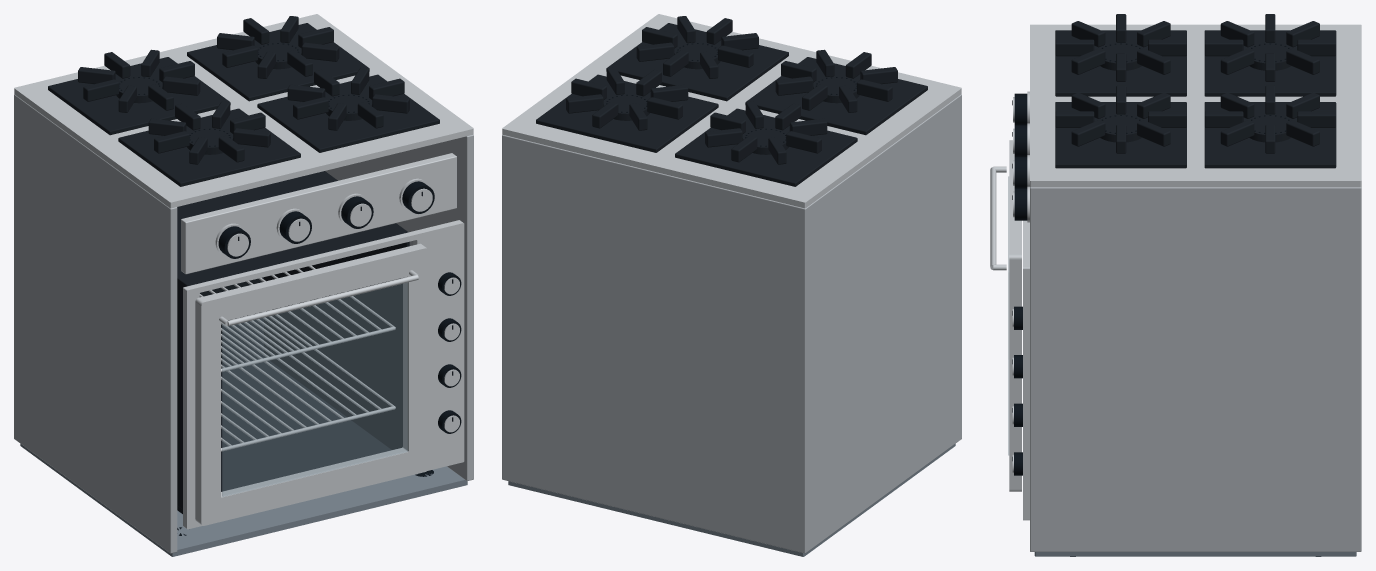
Rendered from cocina-semiindustrial-4-hornillas-horno-electrico-v2.glb.
3 views of the same model, side by side, from view 1: azimuth 30°, elevation 25°; view 2: azimuth 150°, elevation 25°; view 3: azimuth 270°, elevation 25° (orthographic). The views are drawn at different scales.
Visible parts, largest first — view 1: Fijo_Cavidades_y_fundicion, Fijo_Acero_satinado, Fijo_Acero_pulido, Puerta_horno_Visor_vidrio, Puerta_horno_Acero_pulido, Fijo_Interior_acero, Fijo_Mandos_y_goma; view 2: Fijo_Acero_satinado, Fijo_Cavidades_y_fundicion, Fijo_Acero_pulido, Fijo_Interior_acero; view 3: Fijo_Acero_satinado, Fijo_Cavidades_y_fundicion, Fijo_Acero_pulido, Puerta_horno_Acero_pulido, Fijo_Mandos_y_goma, Fijo_Interior_acero.
Part boxes in pixels (x1=…): Fijo_Cavidades_y_fundicion: x1=48, y1=16, x2=453, y2=513; Fijo_Acero_satinado: x1=14, y1=94, x2=473, y2=553; Fijo_Acero_pulido: x1=14, y1=14, x2=473, y2=529; Puerta_horno_Visor_vidrio: x1=222, y1=283, x2=407, y2=496; Puerta_horno_Acero_pulido: x1=195, y1=243, x2=428, y2=525; Fijo_Interior_acero: x1=20, y1=444, x2=467, y2=556; Fijo_Mandos_y_goma: x1=119, y1=43, x2=461, y2=535; Fijo_Acero_satinado: x1=502, y1=94, x2=961, y2=553; Fijo_Cavidades_y_fundicion: x1=536, y1=16, x2=927, y2=186; Fijo_Acero_pulido: x1=502, y1=14, x2=961, y2=208; Fijo_Interior_acero: x1=508, y1=444, x2=955, y2=556; Fijo_Acero_satinado: x1=1030, y1=187, x2=1361, y2=551; Fijo_Cavidades_y_fundicion: x1=1012, y1=14, x2=1336, y2=461; Fijo_Acero_pulido: x1=1012, y1=24, x2=1361, y2=520; Puerta_horno_Acero_pulido: x1=990, y1=140, x2=1021, y2=491; Fijo_Mandos_y_goma: x1=1014, y1=43, x2=1320, y2=556; Fijo_Interior_acero: x1=1034, y1=552, x2=1356, y2=556.
Bounding box in the file's own units: 0.76 × 0.933 × 0.761.
